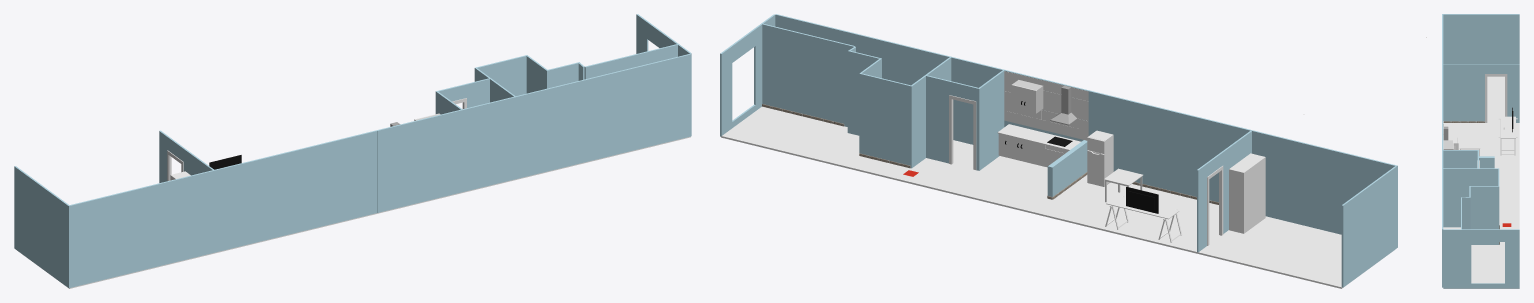
File: bajo.glb
3 views of the same model, side by side, from view 1: azimuth 30°, elevation 25°; view 2: azimuth 150°, elevation 25°; view 3: azimuth 270°, elevation 25° (orthographic). The views are drawn at different scales.
Visible parts, largest first — view 1: Cube.006, Cube.004, Cube.013, Cube.010, Cube.003, Cube.002, suelo, Cube.008, Cube.011, Cube.012, Cube.009; view 2: suelo, Cube.006, Cube.013, Cube.004, Cube.010, Cube.023, Cube.019, Cube.002, Cube.008, Cube.003, Cube.007, Cube.009 (+6 smaller); view 3: suelo, Cube.004, Cube.003, Cube.002, Cube.009, Cube.011, Cube.007, Cube.006, Cube.074, Cube.014, Cube.005, Cube.044 (+6 smaller).
Boxes of the visible parts, x1,y1,x2,y2 form: Cube.006: (68,54,690,287); Cube.004: (14,166,68,287); Cube.013: (584,44,677,79); Cube.010: (476,55,526,95); Cube.003: (159,130,213,182); Cube.002: (636,14,691,136); suelo: (18,136,690,288); Cube.008: (438,78,489,107); Cube.011: (526,55,548,93); Cube.012: (548,62,578,87); Cube.009: (474,67,515,102); suelo: (721,106,1391,288); Cube.006: (775,14,1397,247); Cube.013: (762,23,855,126); Cube.004: (1341,166,1396,287); Cube.010: (860,73,910,165); Cube.023: (1004,71,1088,140); Cube.019: (1229,153,1265,233); Cube.002: (720,14,775,136); Cube.008: (926,75,977,170); Cube.003: (1197,130,1251,252); Cube.007: (978,70,1004,170); Cube.009: (910,57,951,168); suelo: (1443,76,1519,288); Cube.004: (1443,14,1519,64); Cube.003: (1443,64,1519,122); Cube.002: (1443,229,1519,288); Cube.009: (1443,168,1499,227); Cube.011: (1469,186,1499,244); Cube.007: (1443,150,1478,168); Cube.006: (1442,14,1443,287); Cube.074: (1500,116,1515,138); Cube.014: (1462,197,1470,229); Cube.005: (1479,156,1494,168); Cube.044: (1459,140,1480,148).
Bounding box in the file's own units: 19.88 × 3.09 × 3.64.
Materials: 16 (2 with a texture image).
